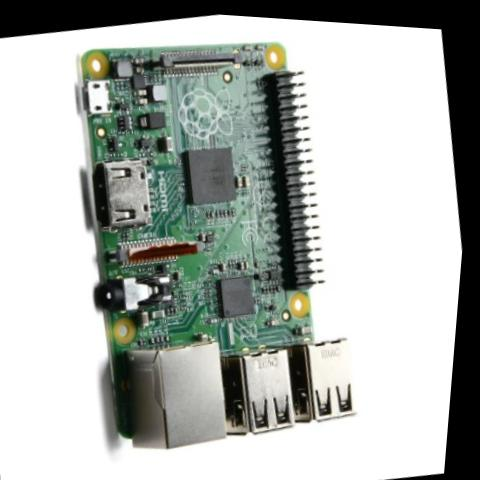Raspberry-Pi-1-Model-B-: (37, 3, 397, 474)
